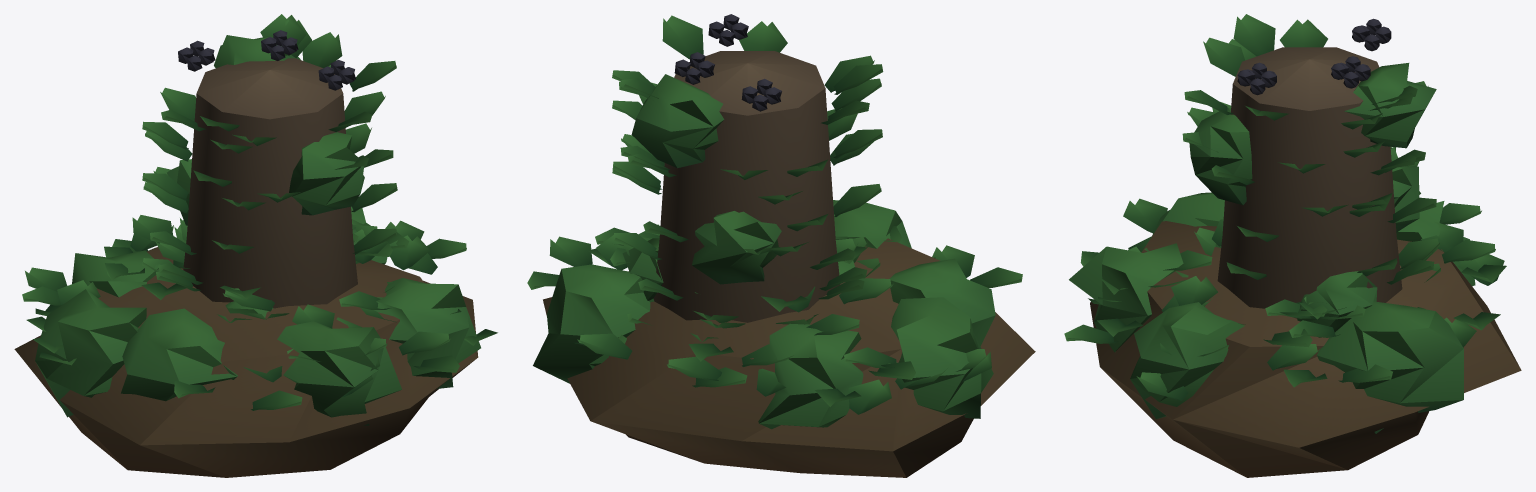
Rendered from ivy_bank.glb.
3 renders of one model, left to right at view 1: azimuth 30°, elevation 25°; view 2: azimuth 150°, elevation 25°; view 3: azimuth 270°, elevation 25°, orthographic. The views are drawn at different scales.
Parts seen in each view (by area): view 1: ivy_bank; view 2: ivy_bank; view 3: ivy_bank.
Boxes of the visible parts, <box> form: ivy_bank: <box>14,14,497,477</box>; ivy_bank: <box>527,14,1035,477</box>; ivy_bank: <box>1064,14,1521,477</box>.
Size of the model in its own units: 0.9958 by 0.818 by 0.8798.
